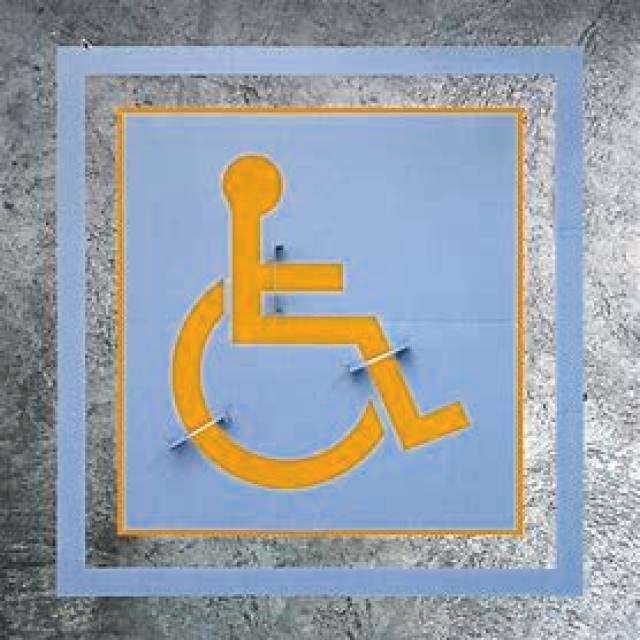ISA: (170, 154, 472, 492)
